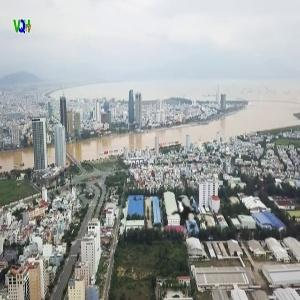drone: (149, 173, 230, 254)
